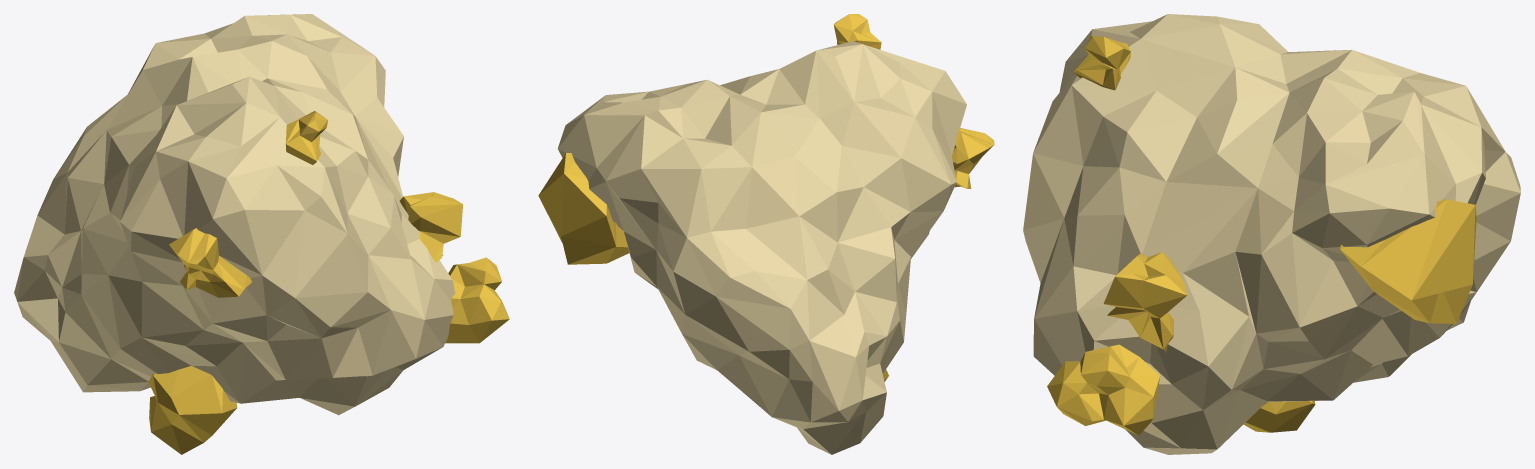
The model's file is MetalOre (19).fbx.
The picture shows the model from 3 angles, left to right: view 1: azimuth 30°, elevation 25°; view 2: azimuth 150°, elevation 25°; view 3: azimuth 270°, elevation 25°; orthographic projection. The views are drawn at different scales.
Parts seen in each view (by area): view 1: Asteroid374; view 2: Asteroid374; view 3: Asteroid374.
Boxes of the visible parts, left/top/right/bottom form: Asteroid374: left=14, top=14, right=509, bottom=454; Asteroid374: left=538, top=14, right=994, bottom=454; Asteroid374: left=1023, top=14, right=1520, bottom=454.
Bounding box in the file's own units: 485 × 502 × 518.
